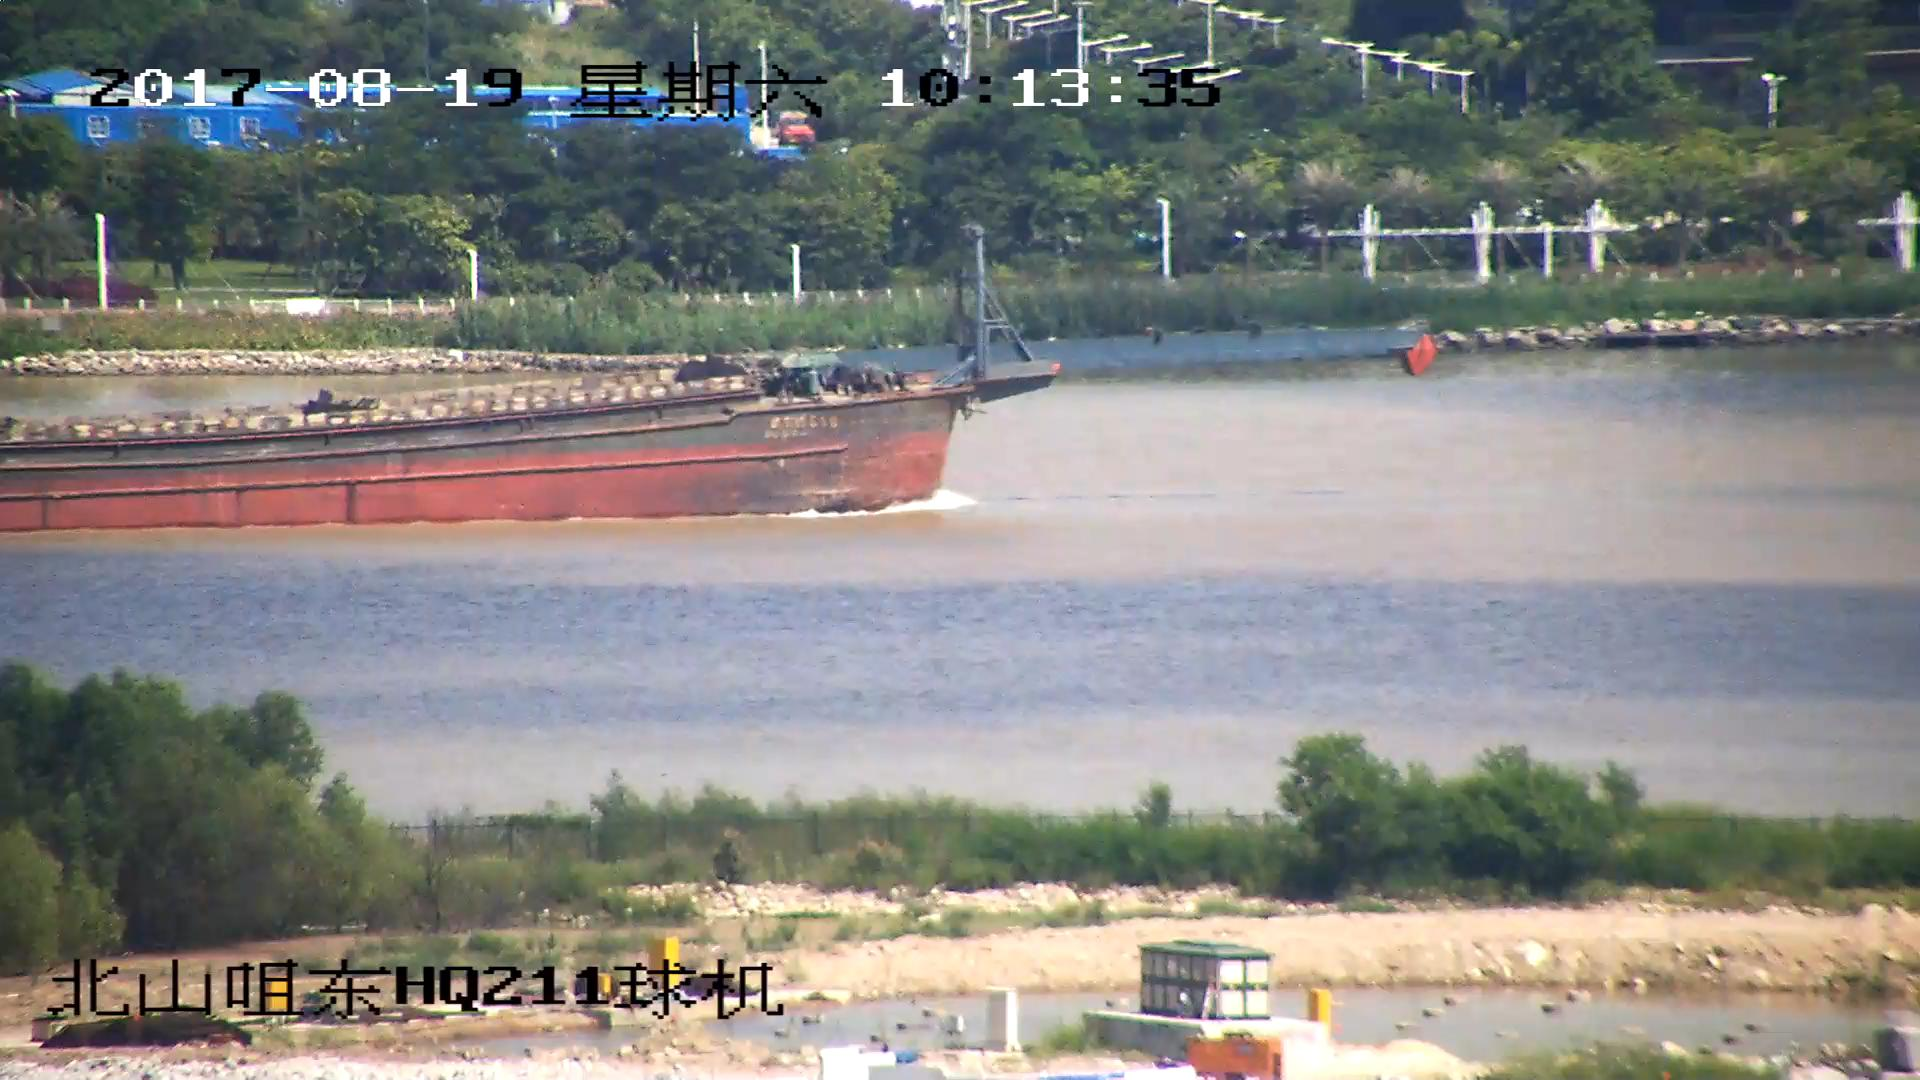bulk cargo carrier: (1, 217, 1437, 533)
